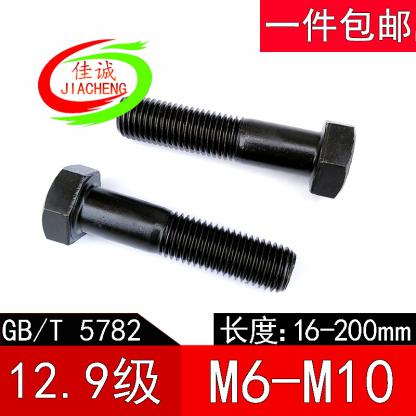FOD: (40, 165, 300, 294), (117, 93, 358, 202)
